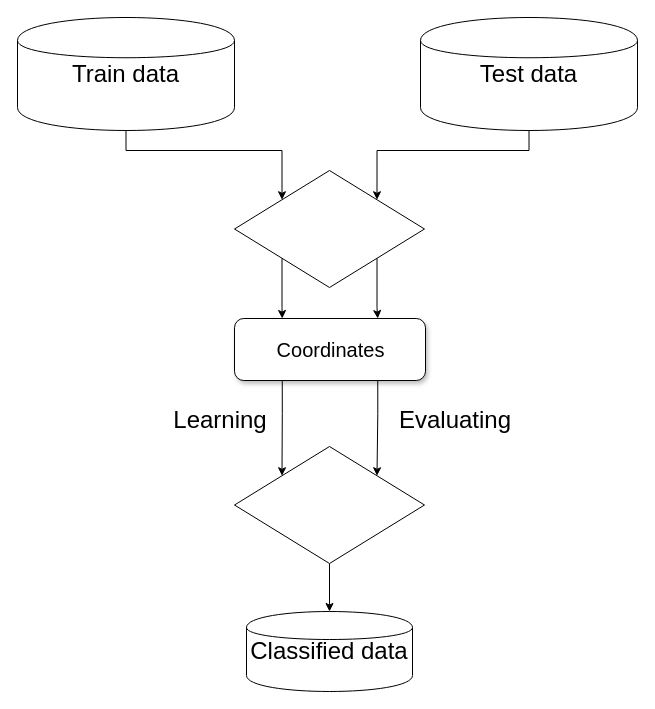
This 655x709 diagram has some shape labels left out. The centre of each missing label's shape, as x and y in pixels:
"Deciders" belongs at [329,505].
"Descriptors" belongs at [329,229].
